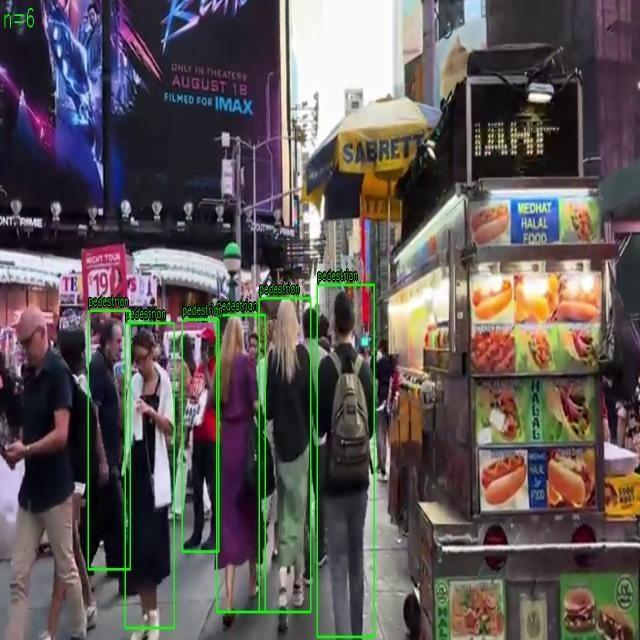person: (317, 284, 375, 638), (259, 298, 311, 612), (125, 322, 175, 628), (217, 314, 266, 612), (88, 310, 130, 570), (182, 319, 219, 552)
